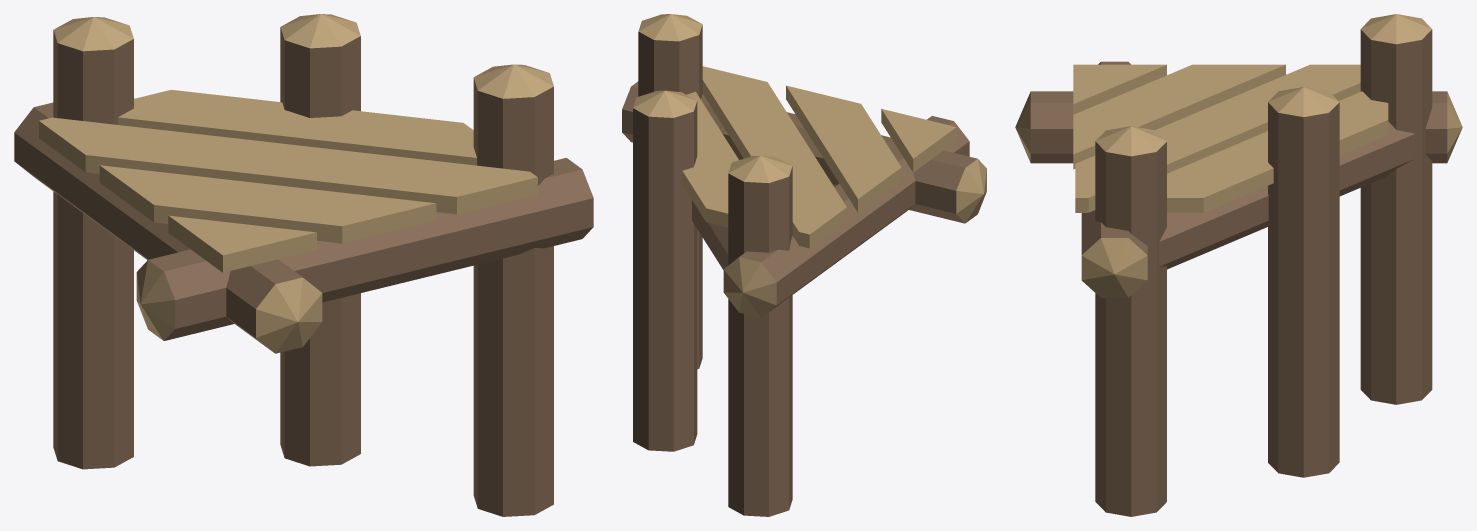
Rendered from Beach_Prop_Docks_Corner.glb.
3 renders of one model, left to right at view 1: azimuth 30°, elevation 25°; view 2: azimuth 150°, elevation 25°; view 3: azimuth 270°, elevation 25°, orthographic. The views are drawn at different scales.
Parts seen in each view (by area): view 1: Beach_Prop_Docks_Corner; view 2: Beach_Prop_Docks_Corner; view 3: Beach_Prop_Docks_Corner.
Part boxes in pixels (box(x1,y1,x2,y2)): Beach_Prop_Docks_Corner: box(14, 14, 593, 516); Beach_Prop_Docks_Corner: box(622, 14, 986, 516); Beach_Prop_Docks_Corner: box(1015, 14, 1462, 516).
Bounding box in the file's own units: 1.35 × 1.25 × 1.35.
